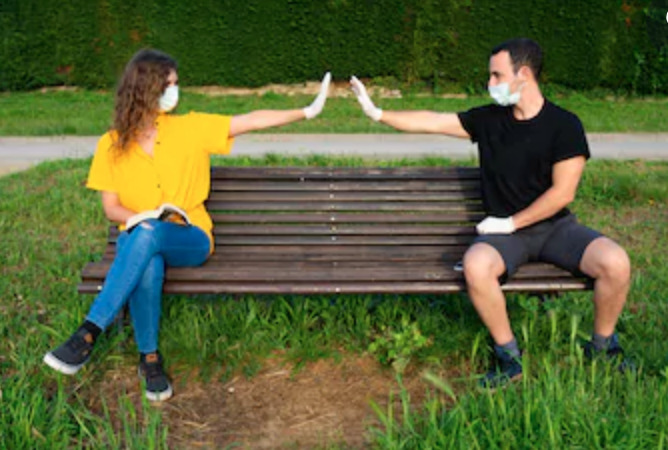Caution: (43, 41, 632, 412)
